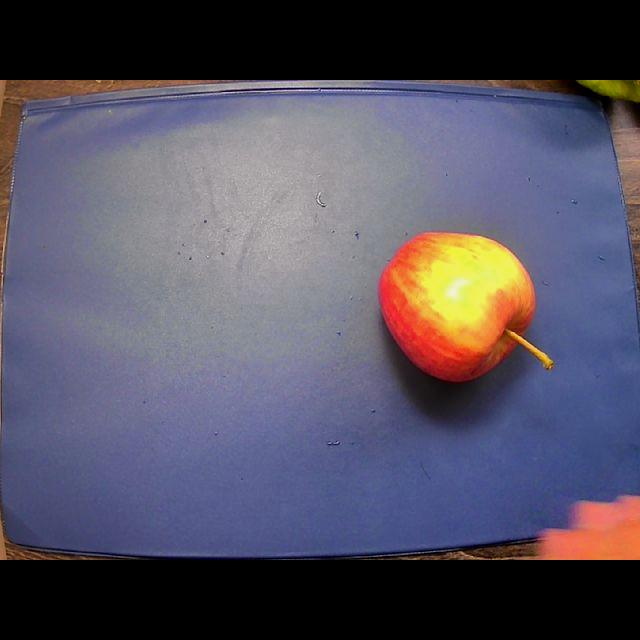manzana: (379, 233, 553, 381)
